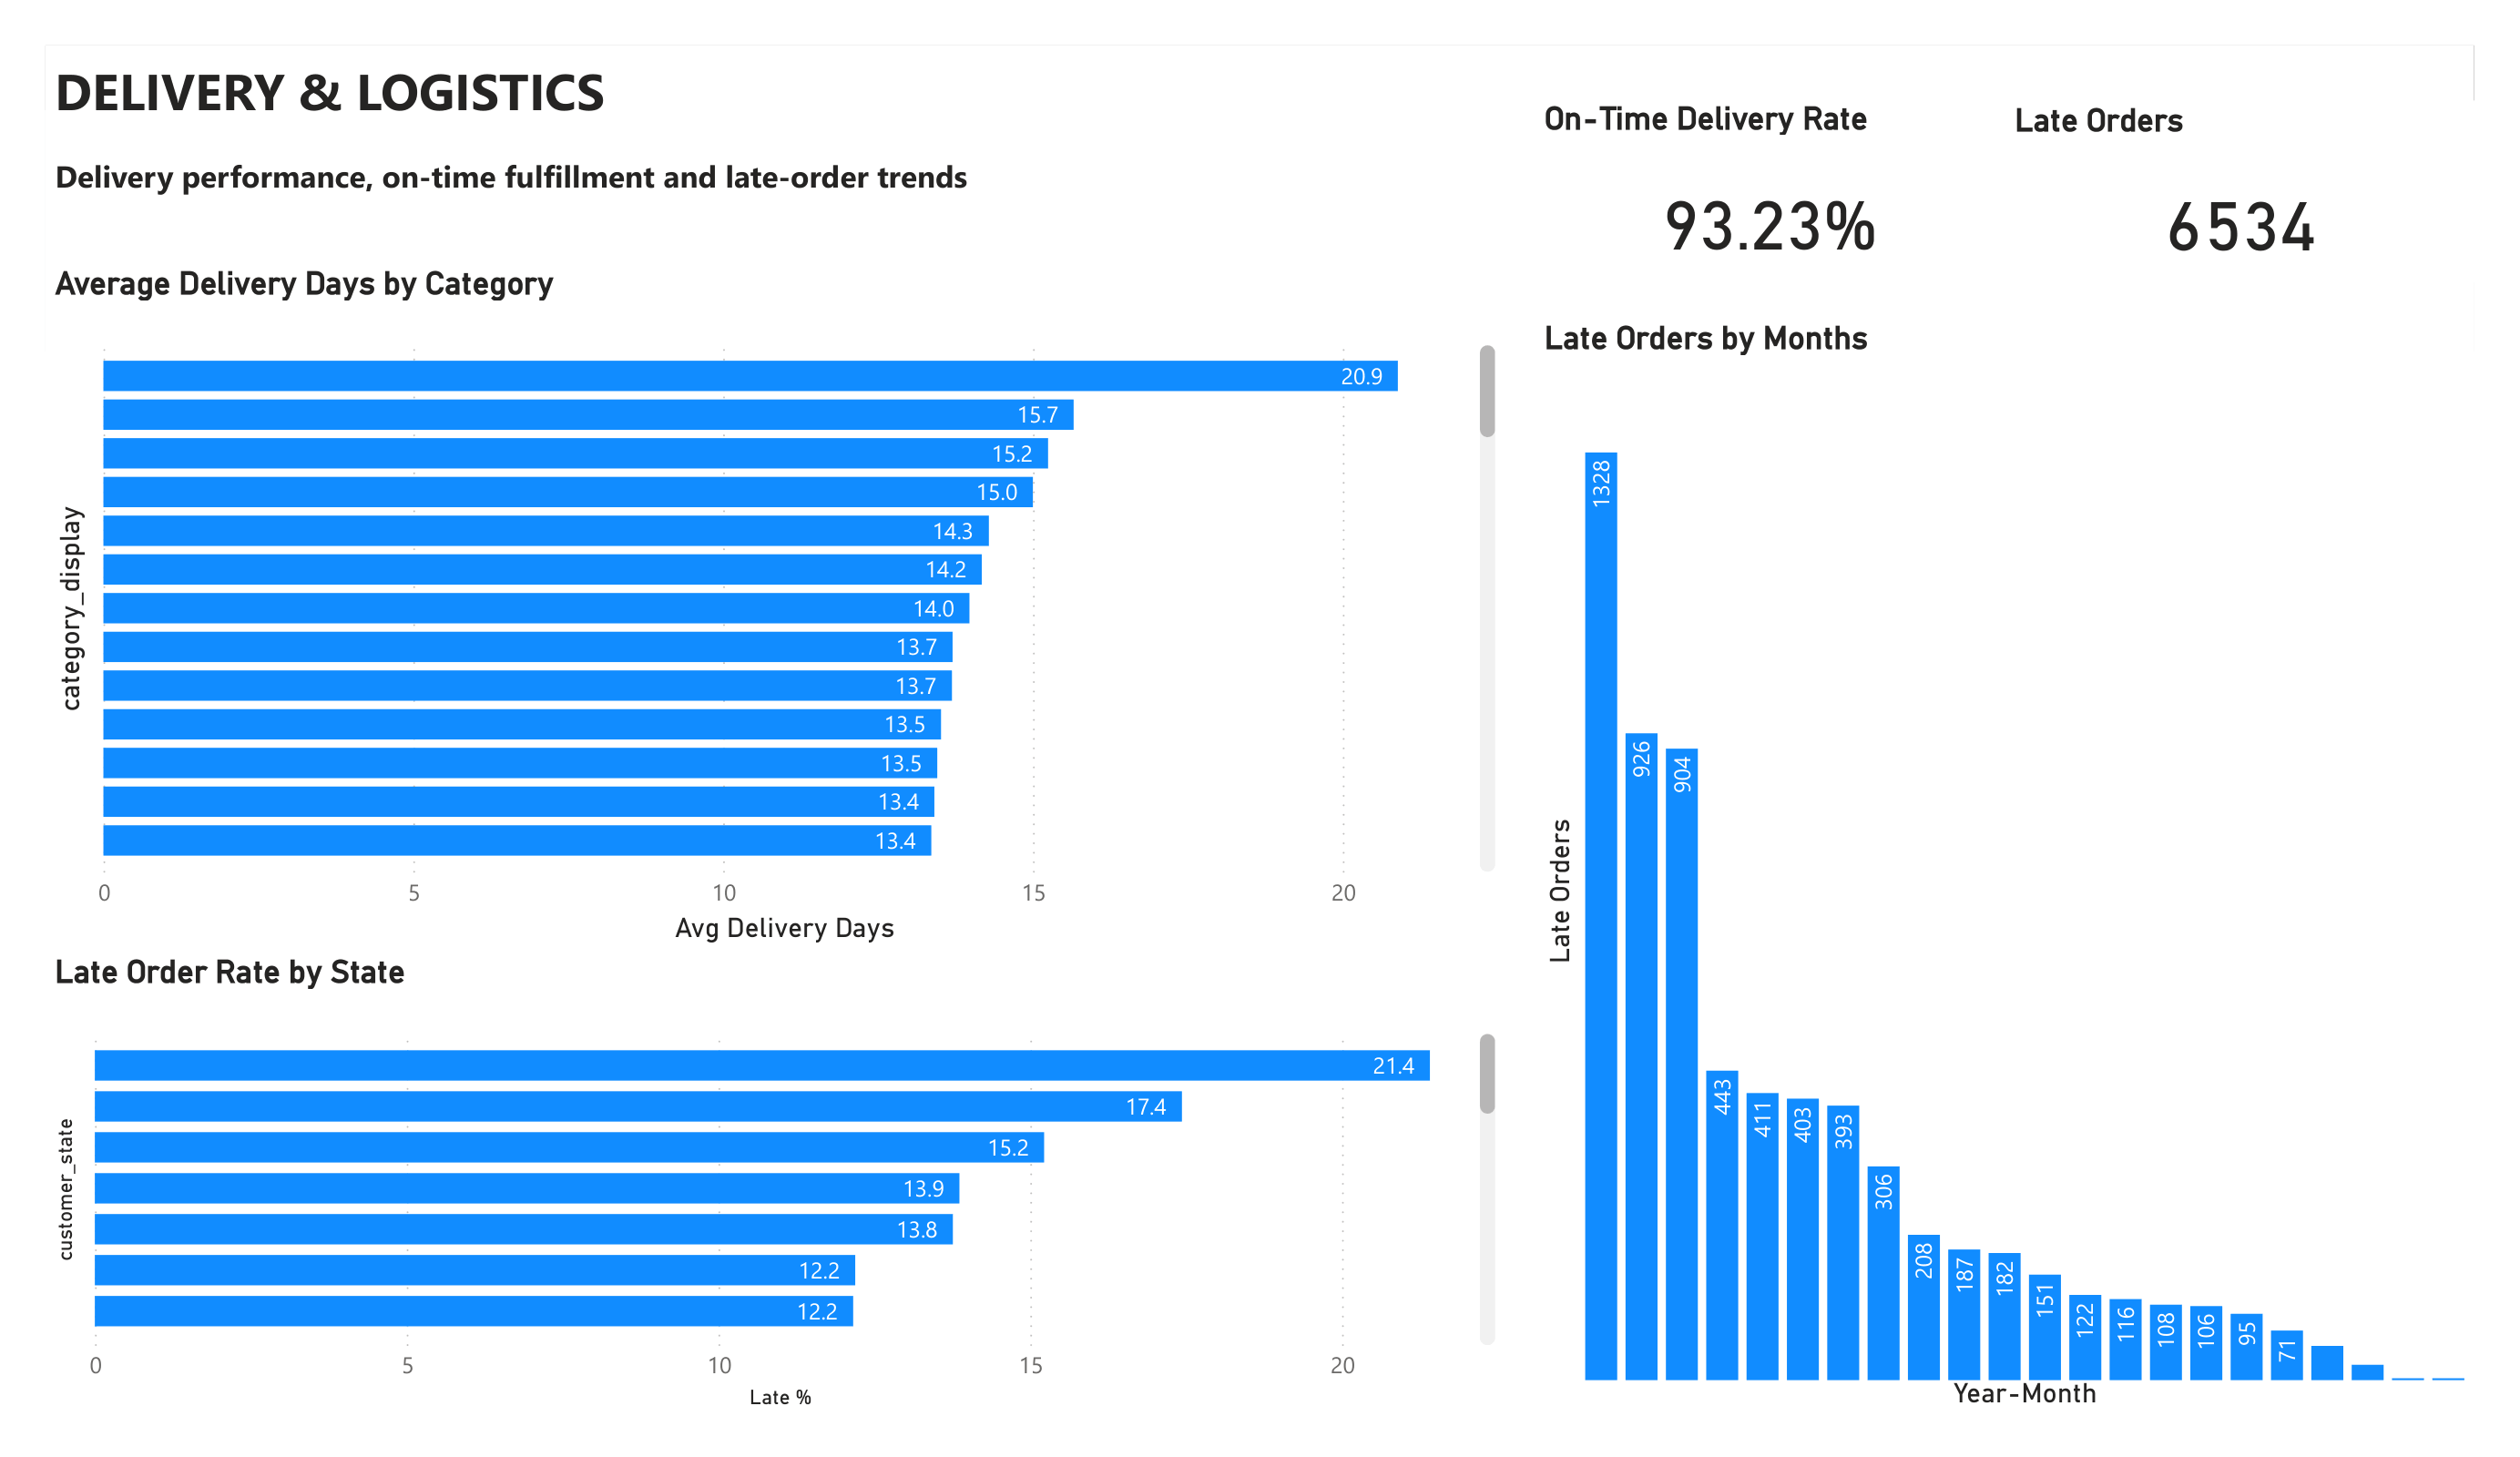

The page's visual inventory and layout, read from the dashboard file:
{"tool":"powerbi","page":{"name":"Delivery & Logistics","canvas":[1280,720],"ordinal":4},"visuals":[{"type":"card","title":"Late Orders","fields":{"Values":["public bi_fact_sales.Late Orders"]},"box":[1032.5,28.8,248.8,96.2],"z":0},{"type":"card","title":"    On-Time Delivery Rate","fields":{"Values":["public bi_fact_sales.On-time %"]},"box":[785,27.5,247.5,97.5],"z":1000},{"type":"clusteredColumnChart","title":"Late Orders by Months","fields":{"Category":["DimDate.Year-Month"],"Y":["public bi_fact_sales.Late Orders"]},"box":[785,143.8,495,578.8],"z":2000},{"type":"barChart","title":"    Average Delivery Days by Category","fields":{"Category":["public bi_fact_sales.category_display"],"Y":["public bi_fact_sales.Avg Delivery Days"]},"box":[0,115,768.8,362.5],"z":3000},{"type":"barChart","title":"    Late Order Rate by State","fields":{"Category":["public bi_fact_sales.customer_state"],"Y":["public bi_fact_sales.Late %"]},"box":[0,477.5,768.8,245],"z":4000},{"type":"textbox","box":[0,0,768.8,115],"z":5000}]}

Visuals, with their boxes on the page's 1280x720 design canvas (x1, y1, x2, y2). These are canvas units, not pixel positions in the 2520x1457 screenshot, which may show the page scaled, cropped or inside an application window:
"Late Orders" card: box(1032, 29, 1281, 125)
"    On-Time Delivery Rate" card: box(785, 28, 1032, 125)
"Late Orders by Months" clusteredColumnChart: box(785, 144, 1280, 723)
"    Average Delivery Days by Category" barChart: box(0, 115, 769, 478)
"    Late Order Rate by State" barChart: box(0, 478, 769, 722)
textbox: box(0, 0, 769, 115)
